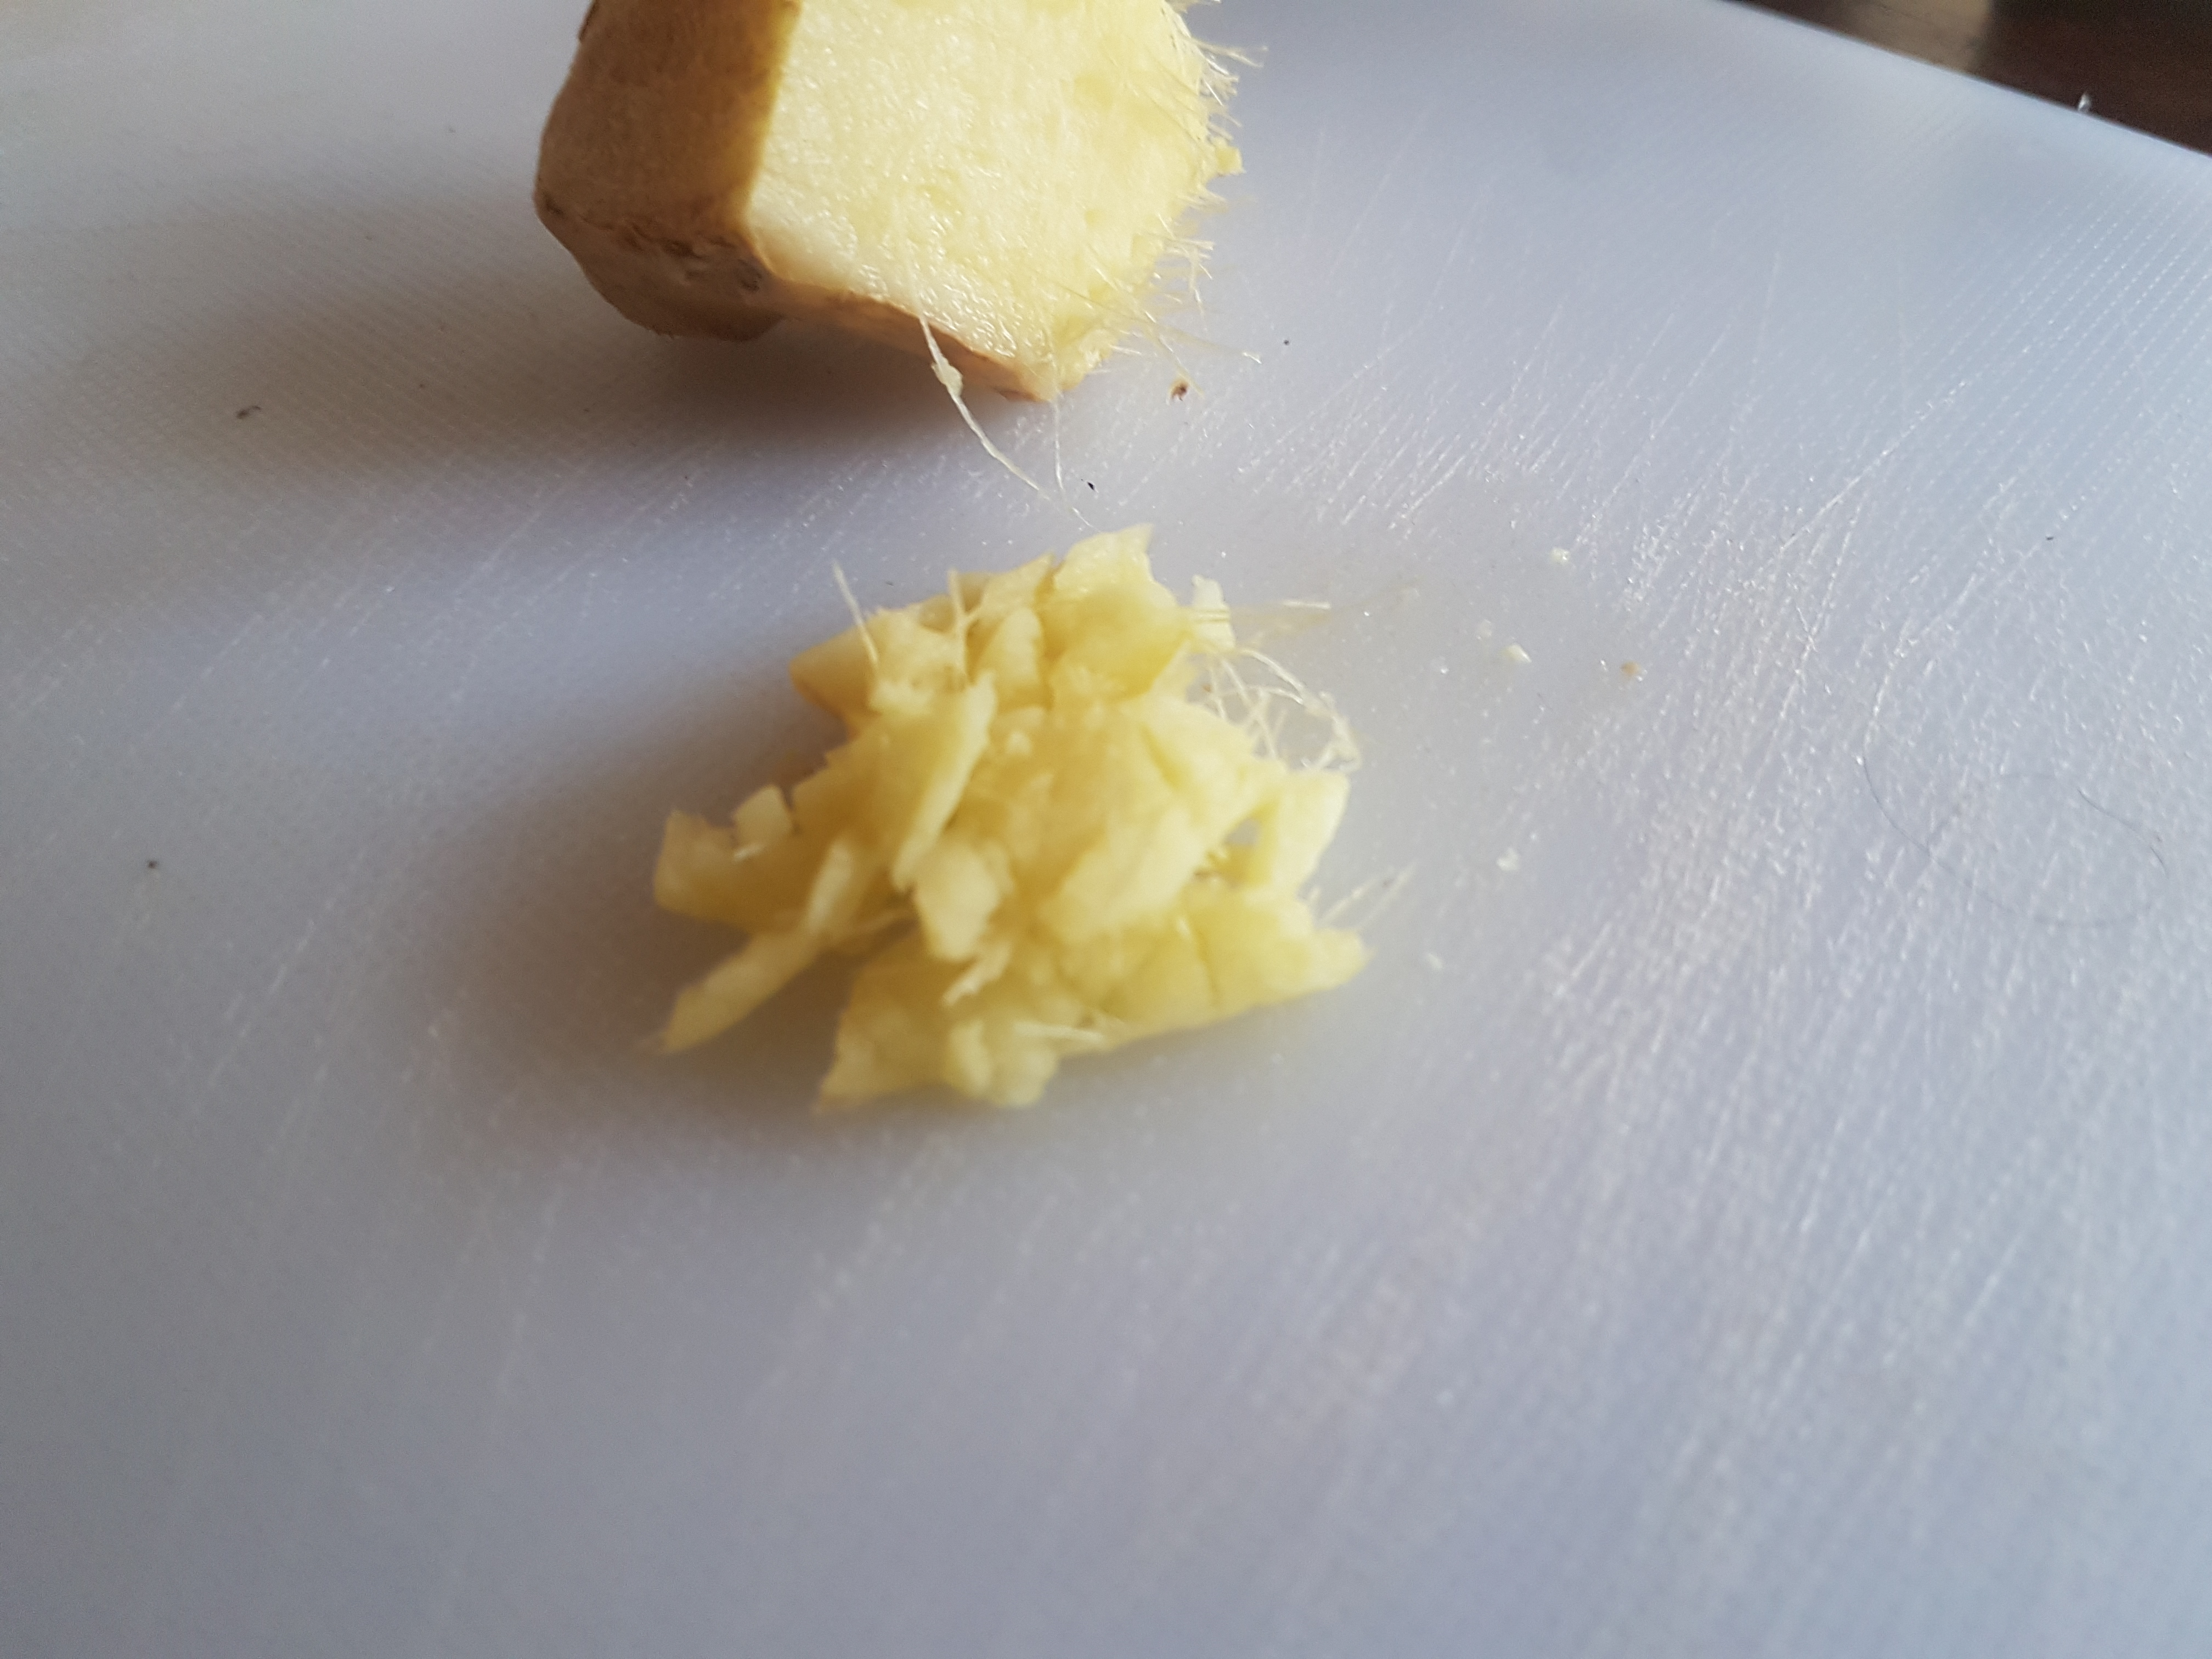Minced ginger: (655, 528, 1449, 1133), (503, 0, 1264, 380)
